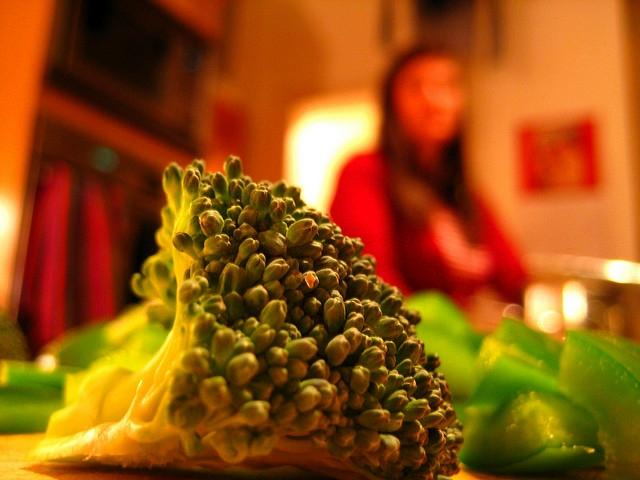bell pepper: (558, 330, 638, 479), (402, 290, 486, 404), (474, 315, 562, 385), (466, 350, 558, 402), (78, 324, 164, 378), (0, 386, 62, 434), (50, 325, 110, 366)
broccoli: (26, 154, 464, 480), (298, 378, 338, 409)
